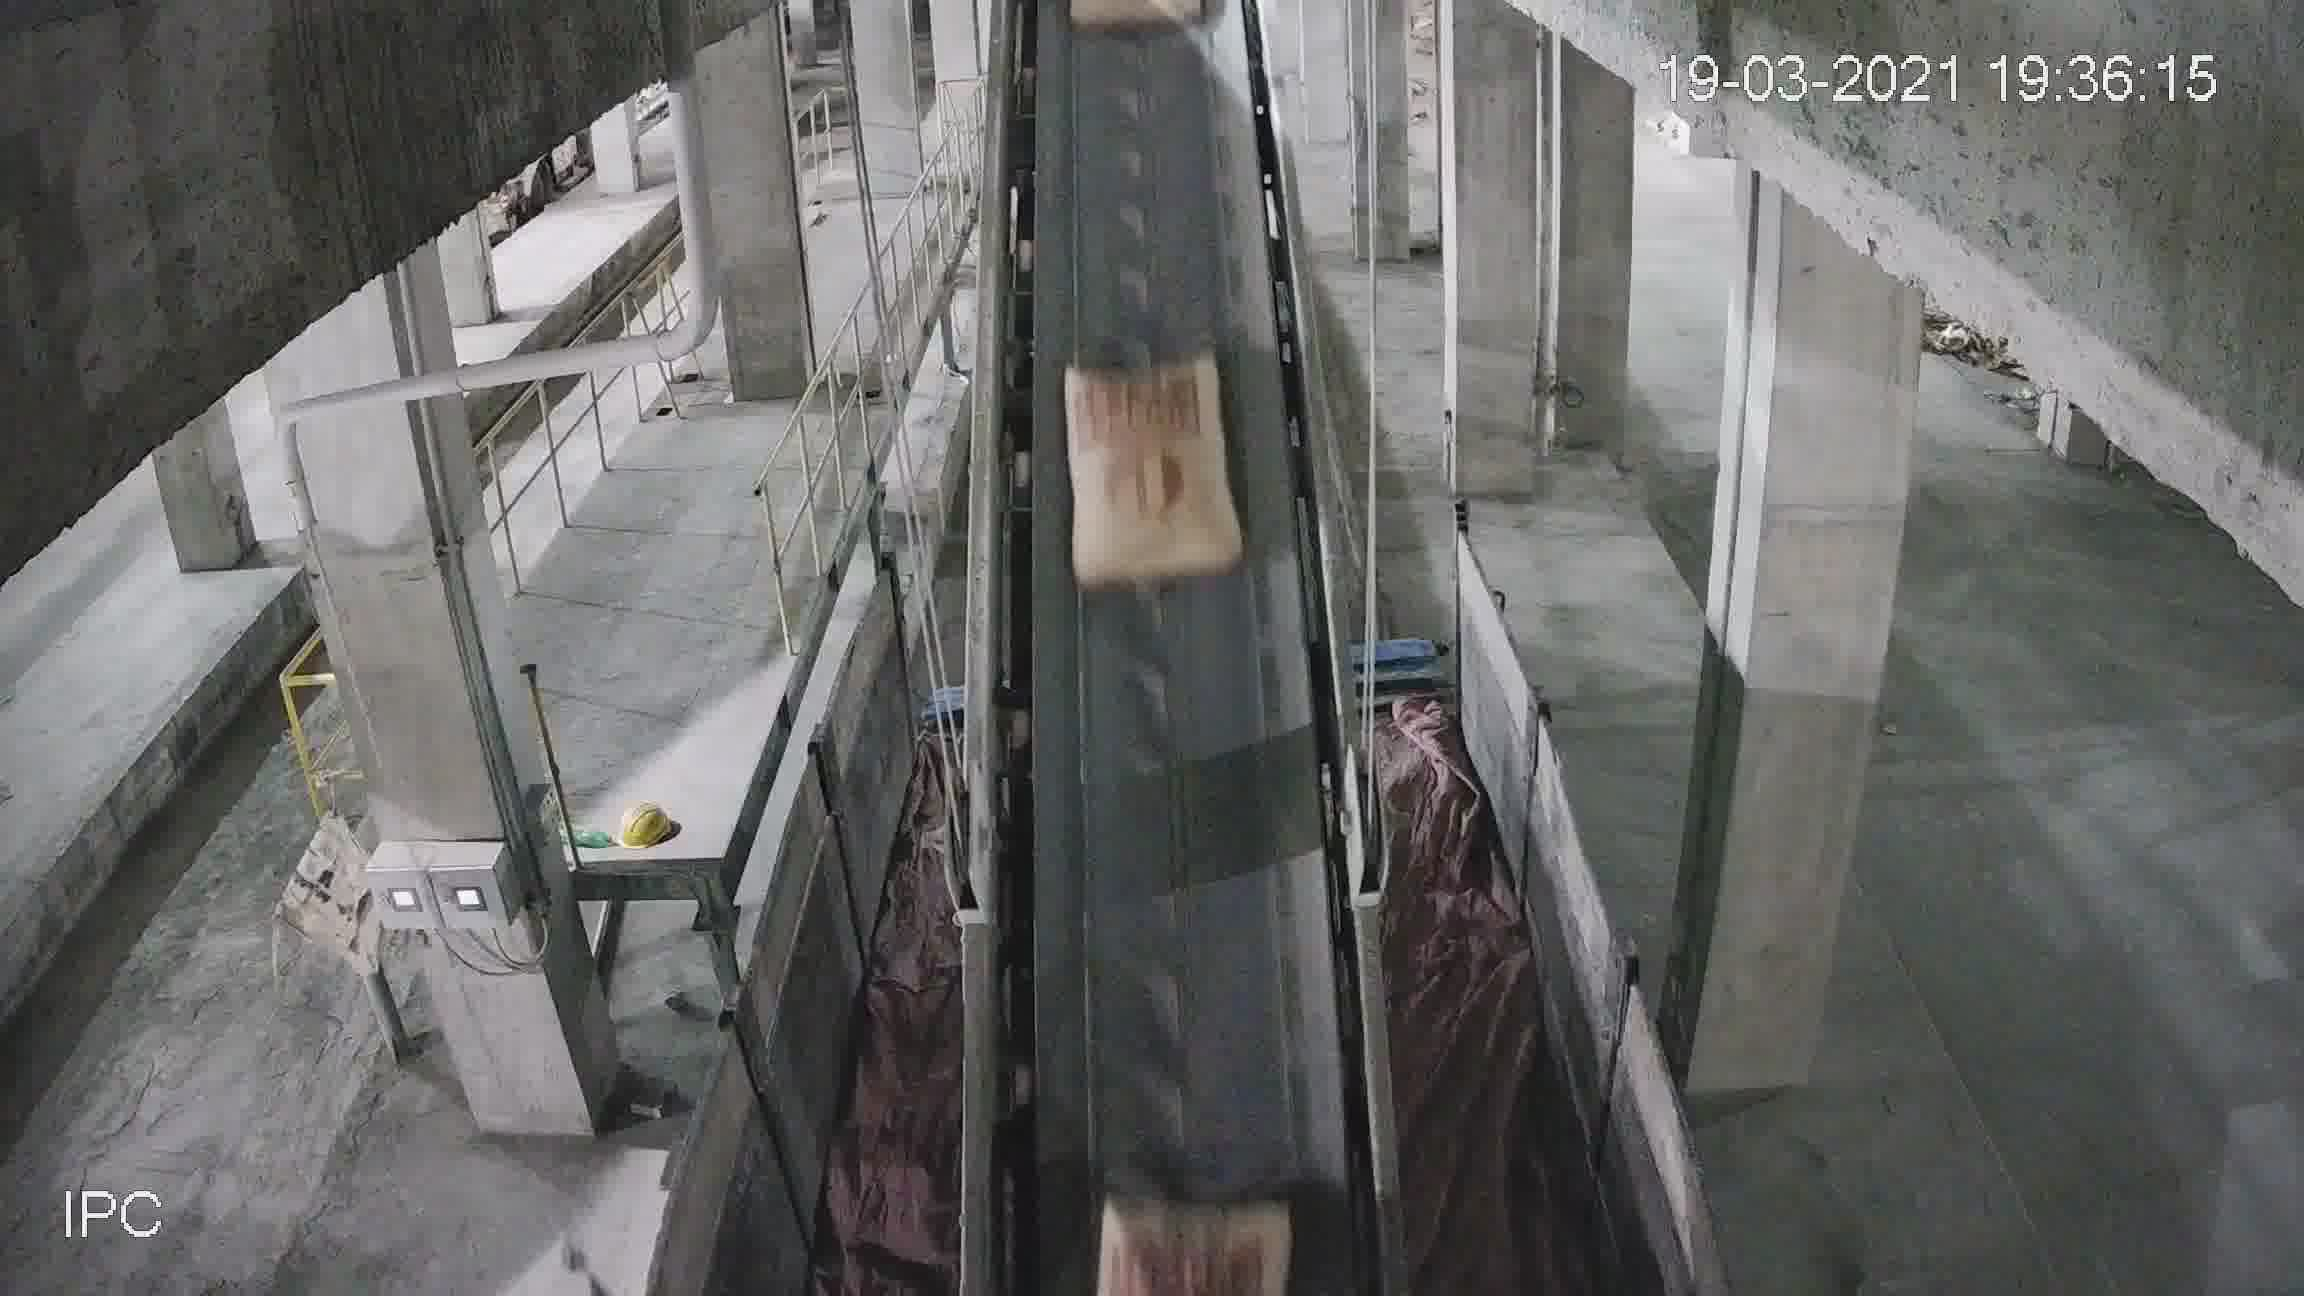bag: (1065, 364, 1233, 582), (1100, 1188, 1296, 1271)
belt: (968, 32, 1388, 1222)
